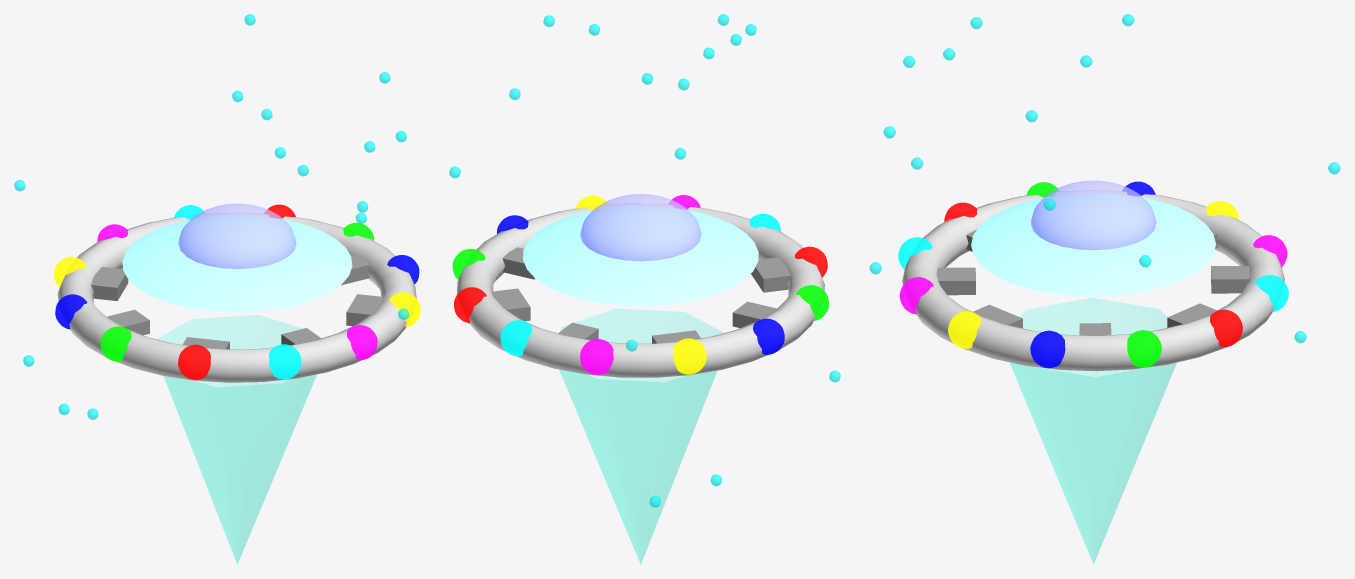
Rendered from ufo.glb.
The picture shows the model from 3 angles, left to right: view 1: azimuth 30°, elevation 25°; view 2: azimuth 150°, elevation 25°; view 3: azimuth 270°, elevation 25°; orthographic projection. The views are drawn at different scales.
Size of the model in its own units: 1.31 by 1.99 by 1.5.
